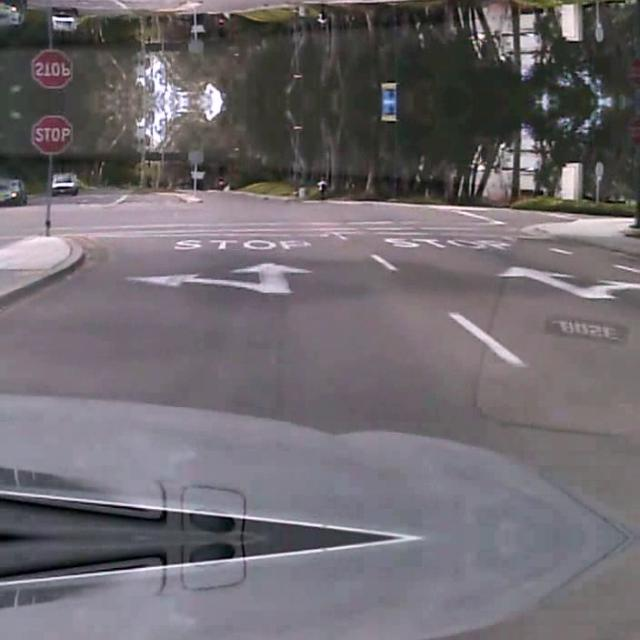stop: (29, 113, 72, 153), (29, 49, 72, 89)
